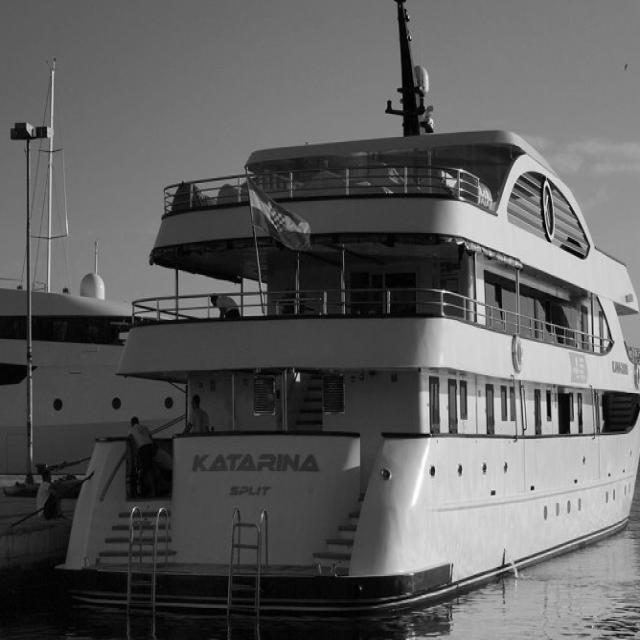cruises: (52, 1, 640, 637)
